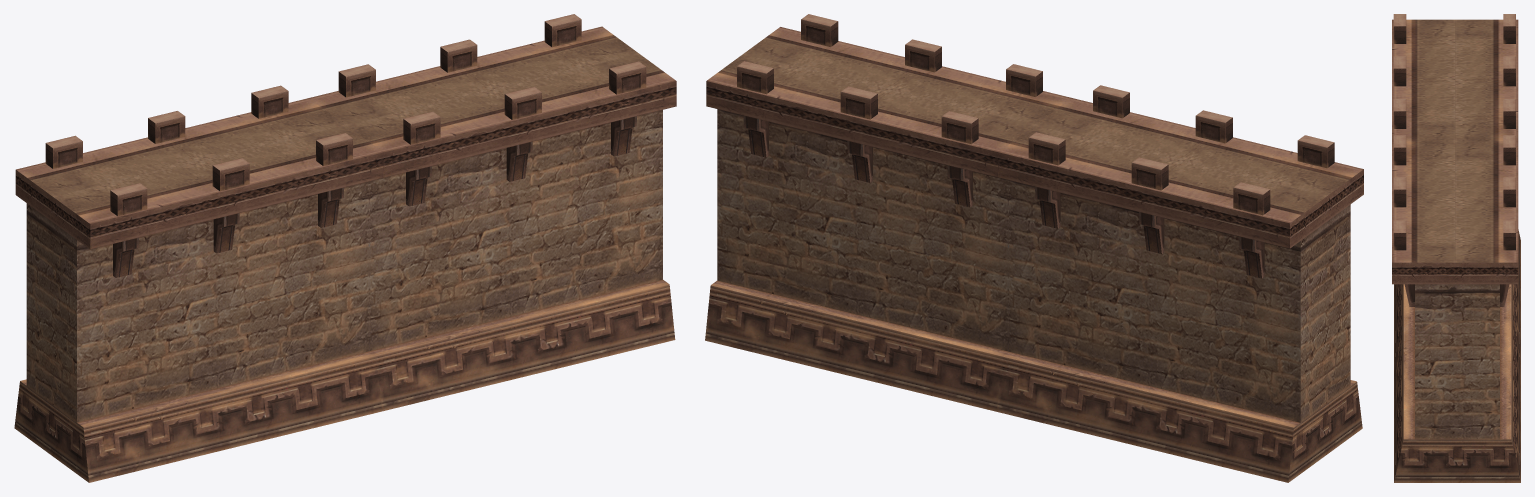
Rendered from SC_huangmo_04.FBX.
3 views of the same model, side by side, from view 1: azimuth 30°, elevation 25°; view 2: azimuth 150°, elevation 25°; view 3: azimuth 270°, elevation 25° (orthographic). The views are drawn at different scales.
Visible parts, largest first — view 1: SC_huangmo_04; view 2: SC_huangmo_04; view 3: SC_huangmo_04.
Boxes of the visible parts, left/top/right/bottom form: SC_huangmo_04: left=14, top=14, right=676, bottom=482; SC_huangmo_04: left=705, top=14, right=1363, bottom=482; SC_huangmo_04: left=1392, top=14, right=1520, bottom=482.
Bounding box in the file's own units: 1473 × 673 × 330.
